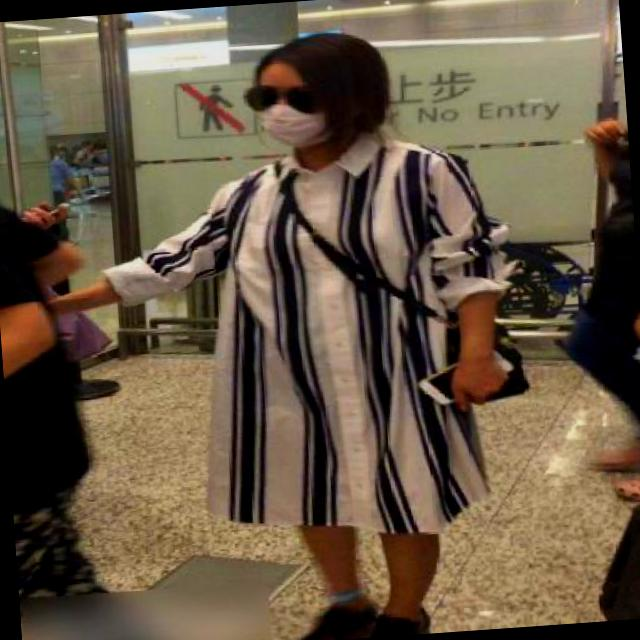Person: (105, 3, 554, 640)
